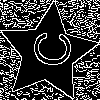C: (23, 28, 73, 69)
